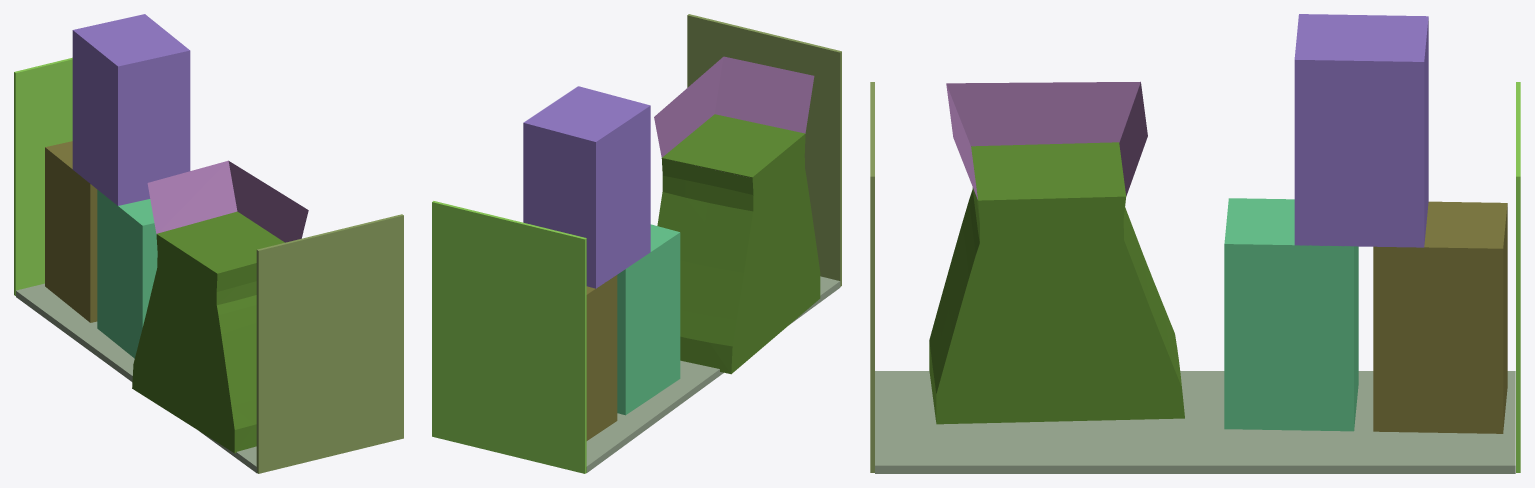
The picture shows the model from 3 angles, left to right: view 1: azimuth 30°, elevation 25°; view 2: azimuth 150°, elevation 25°; view 3: azimuth 270°, elevation 25°; orthographic projection. The views are drawn at different scales.
Visible parts, largest first — view 1: world; view 2: world; view 3: world.
Part boxes in pixels (x1,y1,x2,y2): world: (14, 14, 403, 473); world: (432, 14, 841, 473); world: (870, 14, 1520, 473).
Bounding box in the file's own units: 0.7364 × 1.29 × 2.
